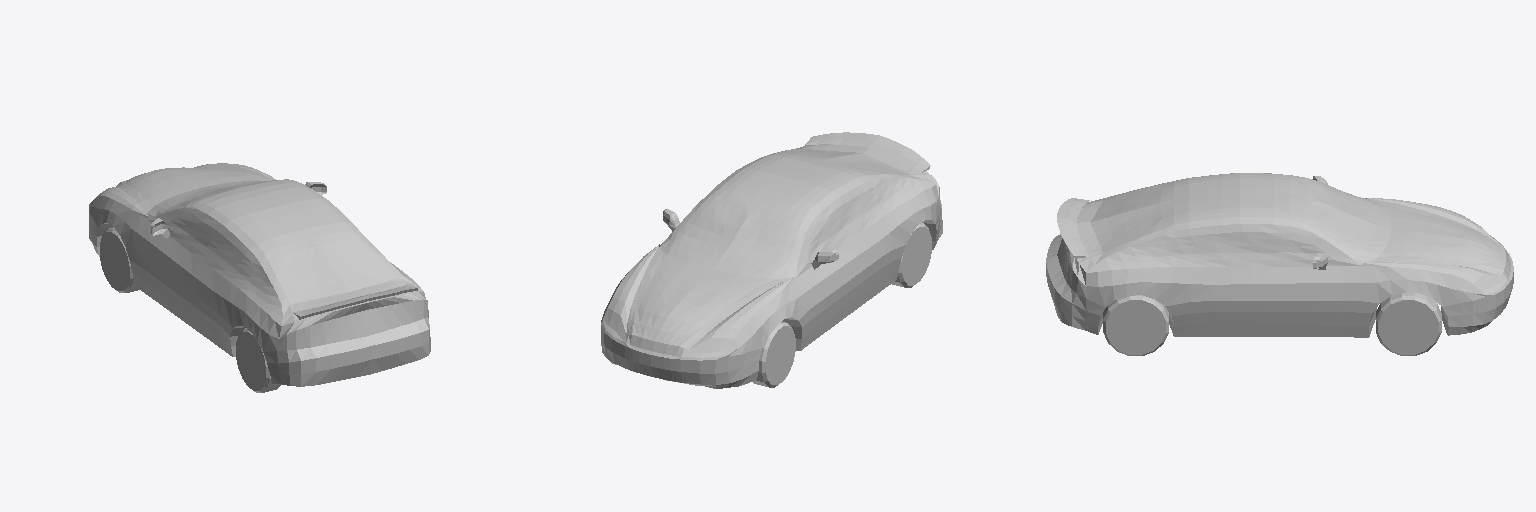
File: Hyundai Coupe2.obj
3 views of the same model, side by side, from view 1: azimuth 30°, elevation 25°; view 2: azimuth 150°, elevation 25°; view 3: azimuth 270°, elevation 25° (orthographic).
Parts seen in each view (by area): view 1: group1 strana_L, group1 krma, group1 krov, group1 sajba_zadnja, group1 hauba, group1 prozori_strana_L, group1 portapak, group1 guma_zadnja_L, guma_prednja_L group1, group1 sajba_prednja, group1 krilce; view 2: group1 strana_L, group1 hauba, group1 sajba_prednja, group1 krov, group1 spoiler, group1 prozori_strana_L, guma_prednja_L group1, group1 sajba_zadnja, group1 krilce, group1 guma_zadnja_L, group1 portapak; view 3: group1 strana_D, group1 hauba, group1 krov, group1 sajba_prednja, group1 prozori_strana_D, group1 sajba_zadnja, group1 guma_prednja_D, group1 guma_zadnja_D, group1 krma, group1 portapak, group1 krilce, group1 spoiler.
Part boxes in pixels (x1,y1,x2,y2): group1 strana_L: (89, 195, 282, 383); group1 krma: (277, 292, 430, 386); group1 krov: (192, 180, 360, 257); group1 sajba_zadnja: (267, 236, 395, 305); group1 hauba: (97, 163, 275, 218); group1 prozori_strana_L: (166, 214, 251, 272); group1 portapak: (257, 231, 423, 325); group1 guma_zadnja_L: (236, 328, 281, 392); guma_prednja_L group1: (100, 227, 138, 292); group1 sajba_prednja: (147, 179, 288, 218); group1 krilce: (293, 284, 417, 319); group1 strana_L: (728, 178, 940, 387); group1 hauba: (603, 244, 795, 352); group1 sajba_prednja: (660, 198, 807, 278); group1 krov: (704, 153, 872, 223); group1 spoiler: (601, 320, 729, 388); group1 prozori_strana_L: (807, 187, 880, 263); guma_prednja_L group1: (752, 322, 795, 387); group1 sajba_zadnja: (779, 147, 907, 174); group1 krilce: (805, 132, 930, 172); group1 guma_zadnja_L: (892, 223, 931, 287); group1 portapak: (770, 144, 934, 183); group1 strana_D: (1085, 225, 1485, 337); group1 hauba: (1360, 198, 1505, 291); group1 krov: (1174, 173, 1307, 231); group1 sajba_prednja: (1304, 178, 1390, 264); group1 prozori_strana_D: (1173, 224, 1333, 259); group1 sajba_zadnja: (1084, 183, 1167, 251); group1 guma_prednja_D: (1376, 292, 1441, 355); group1 guma_zadnja_D: (1103, 295, 1168, 355); group1 krma: (1046, 234, 1085, 329); group1 portapak: (1076, 181, 1173, 272); group1 krilce: (1057, 198, 1089, 258); group1 spoiler: (1481, 235, 1513, 328).
Size of the model in its own units: 6.23 by 4.36 by 14.44.